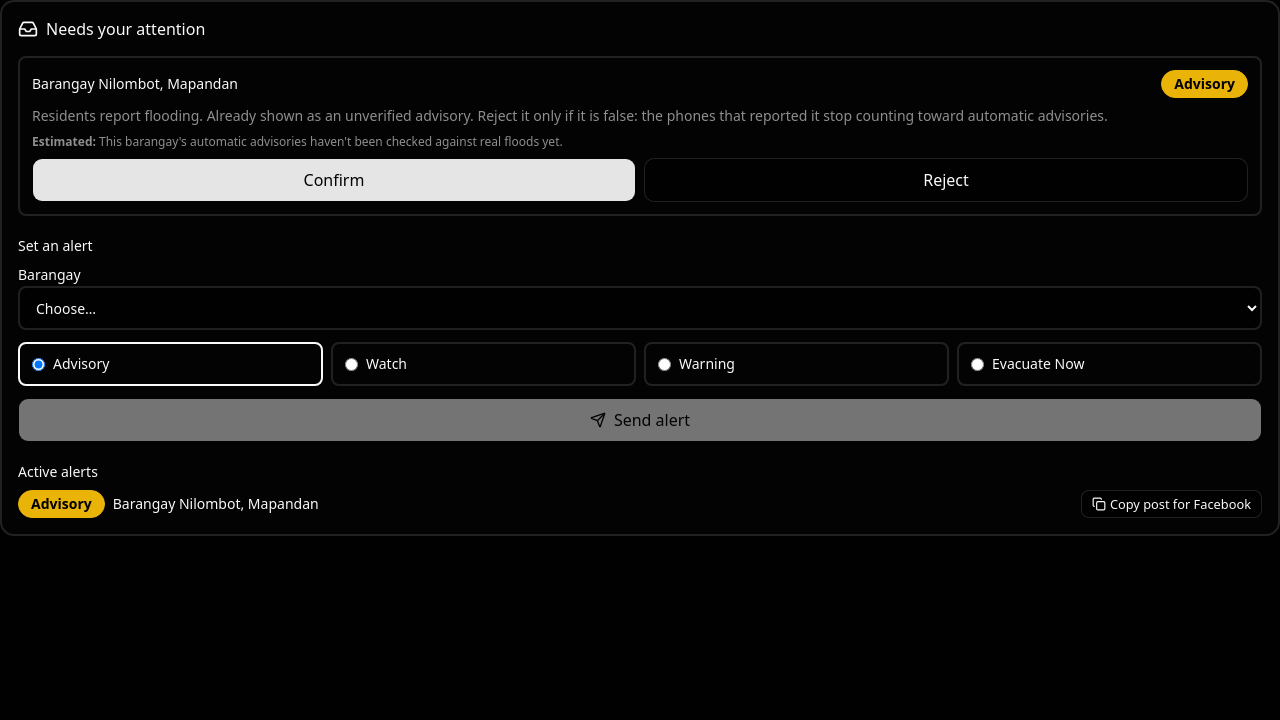
Test case: OfficialInbox (ideas 4, 5, 13) › asks the official to confirm or reject an automatic advisory
Check: the text "Residents report" is shown, box [32, 106, 1108, 125]
Click the button "Confirm" at {"x": 334, "y": 180}, box [32, 158, 636, 202]
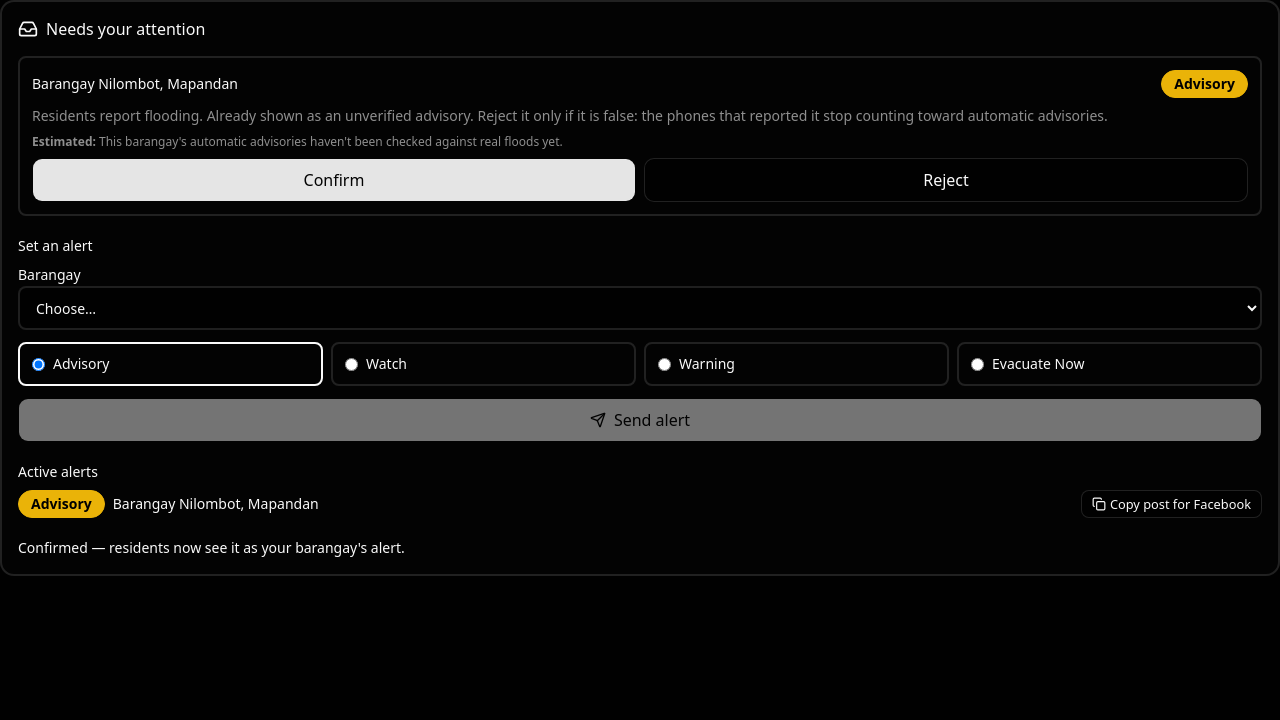
Check: the text "Confirmed — residents now see it as your barangay's alert." is shown, box [18, 538, 405, 557]
